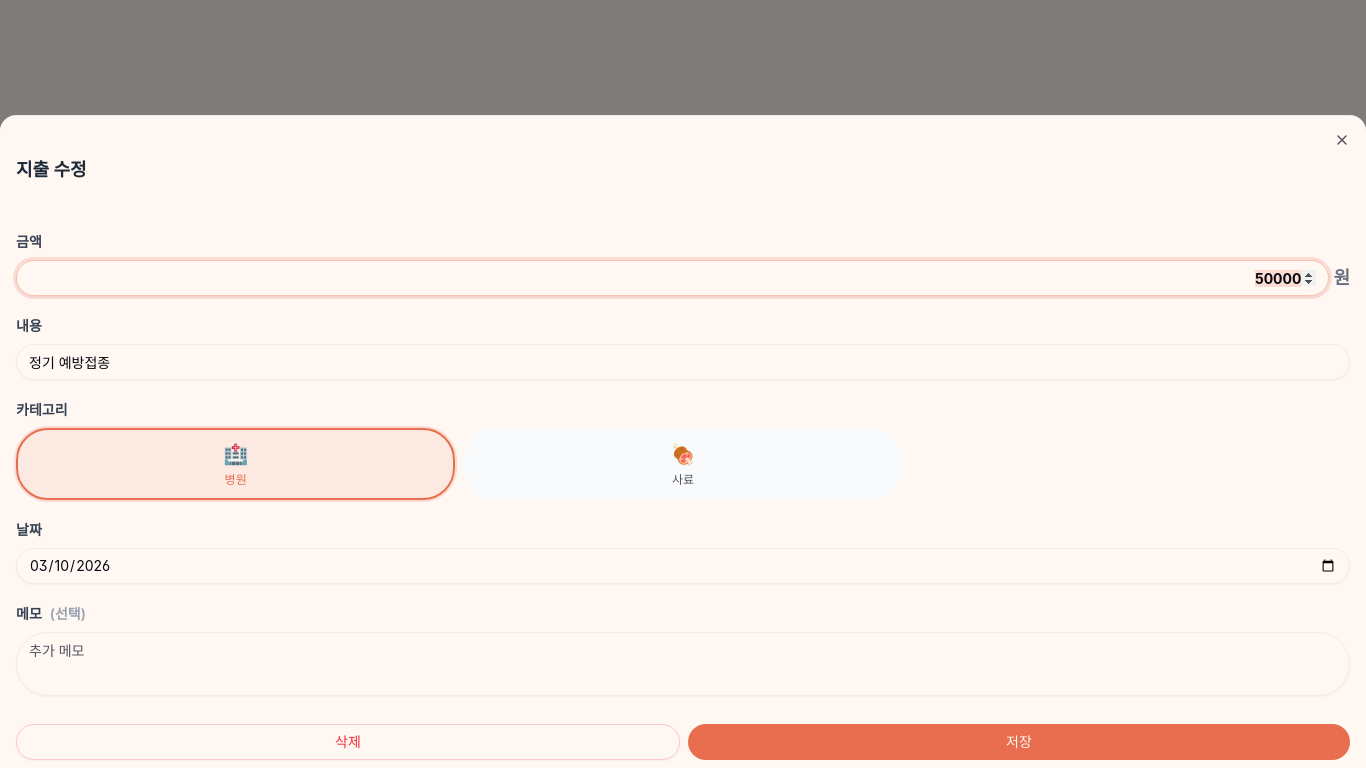
Scenario: ExpenseEditSheet › 삭제 버튼 › 클릭 시 ConfirmDialog가 표시된다
The image size is (1366, 768).
Click the button "삭제" at (348, 742), box [16, 724, 680, 760]
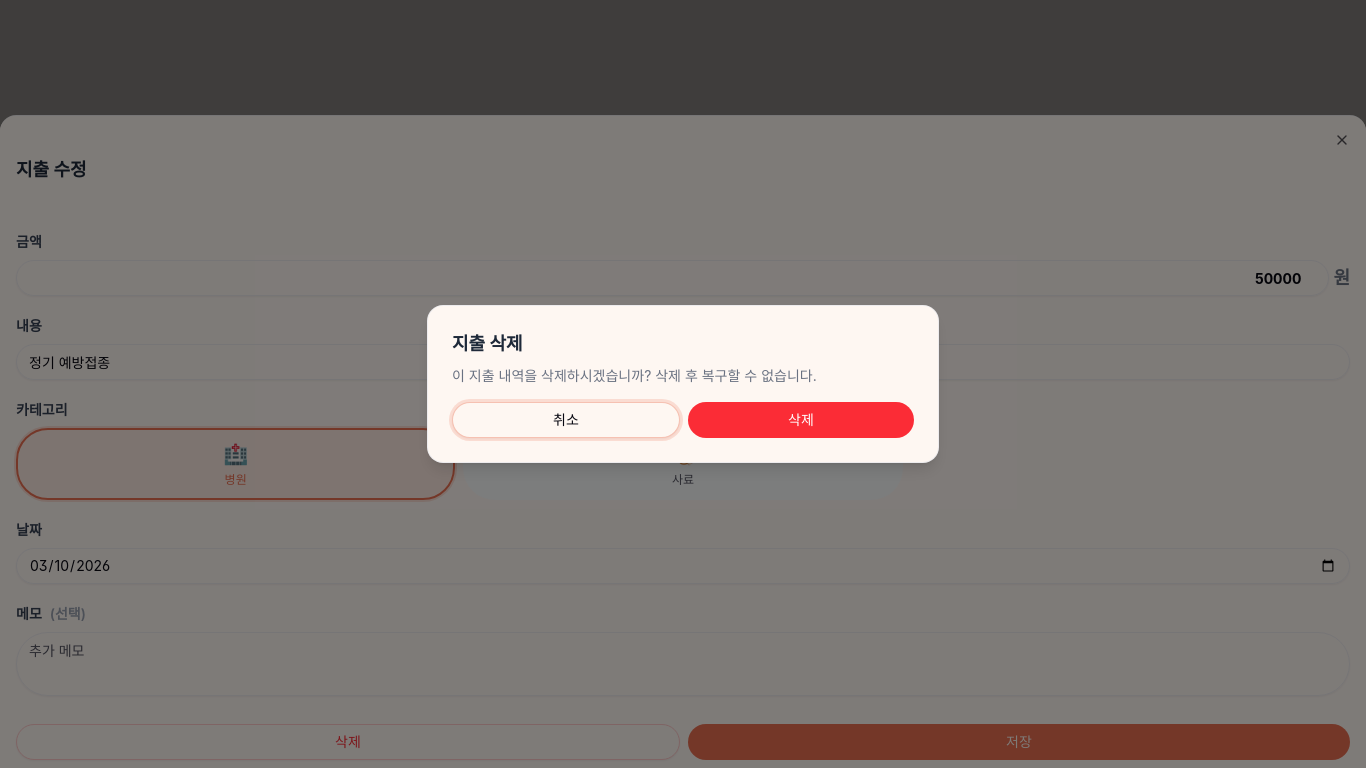
Now the heading "지출 삭제" is shown, box [452, 333, 522, 354]
